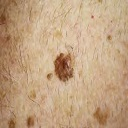Melanoma: (52, 51, 80, 81)
